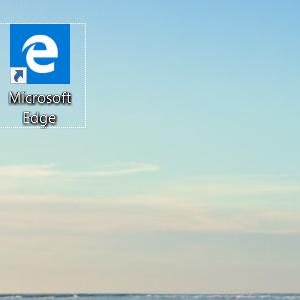edge: (10, 24, 70, 84)
